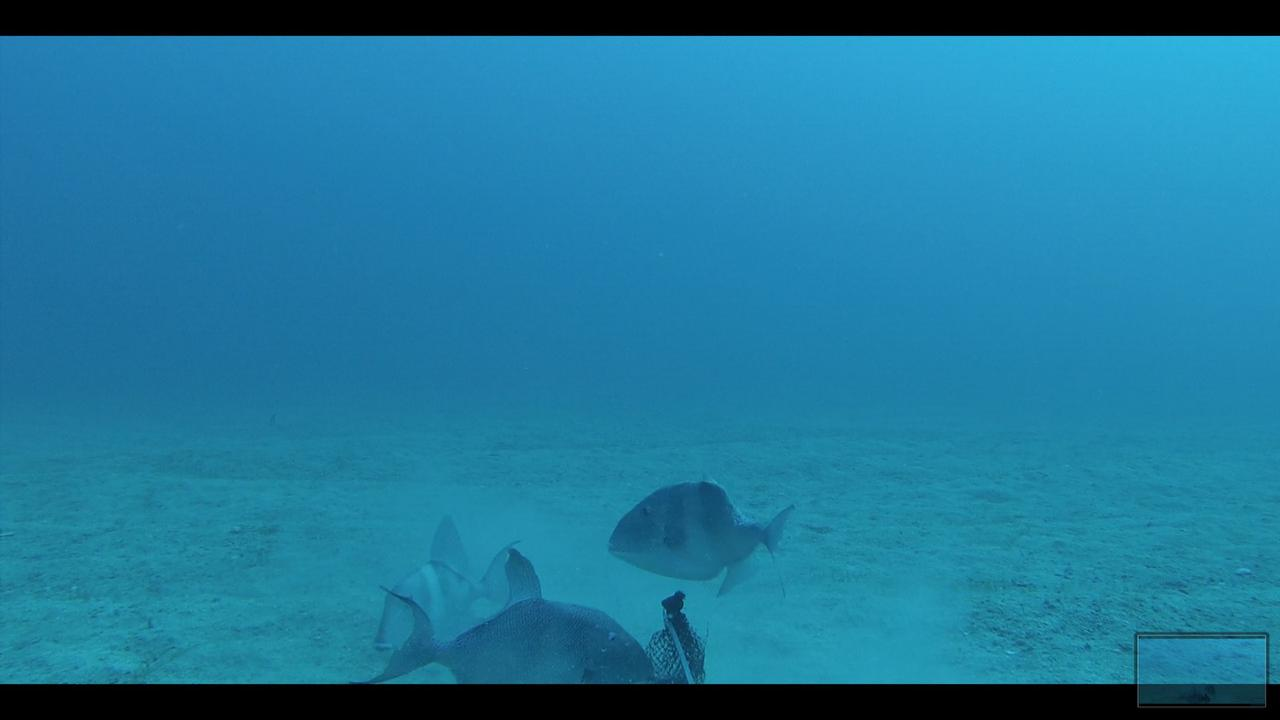balistes: (343, 546, 655, 682), (597, 465, 794, 601), (362, 508, 521, 654)
